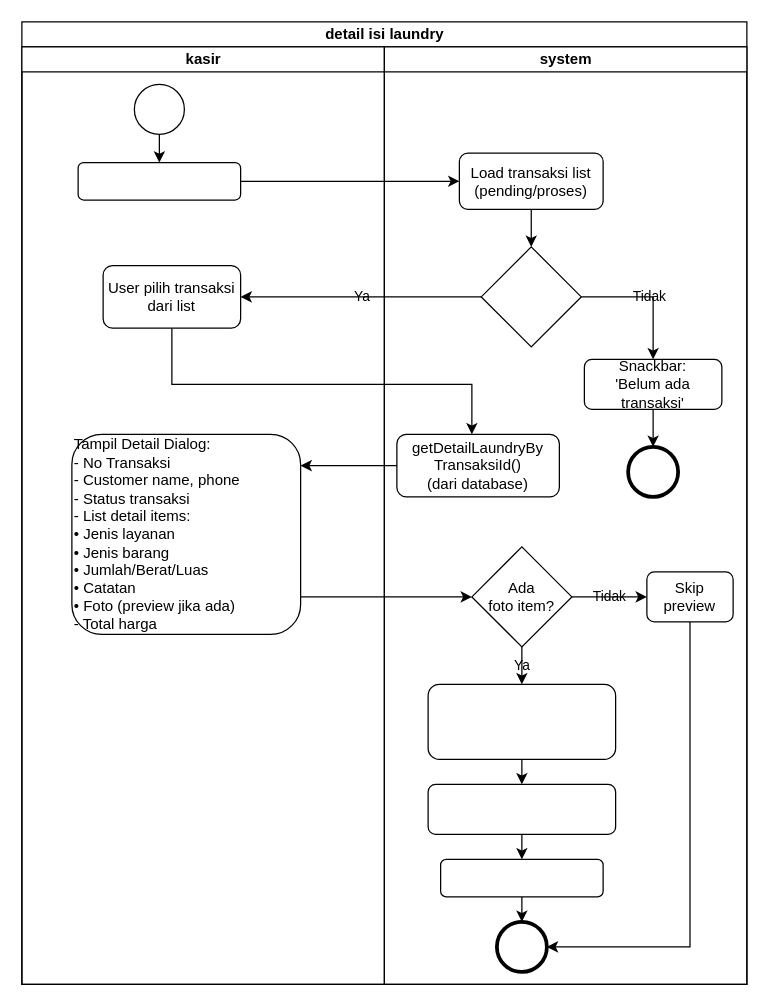
The diagram is 769 pixels wide and 1006 high, and some of its shapes have lost their labels. The shapes that lost their labels are listed below. From the top down, each one's centre as x and y in pixels, then its label:
At pixel 159 180: "Klik 'Detail Isi Laundry'".
At pixel 530 296: "Ada Transaksi?".
At pixel 521 721: "Tap foto → Preview fullscreen (dari Supabase Storage URL)".
At pixel 521 808: "Tap outside → Close preview".
At pixel 521 877: "Klik 'Tutup'".
